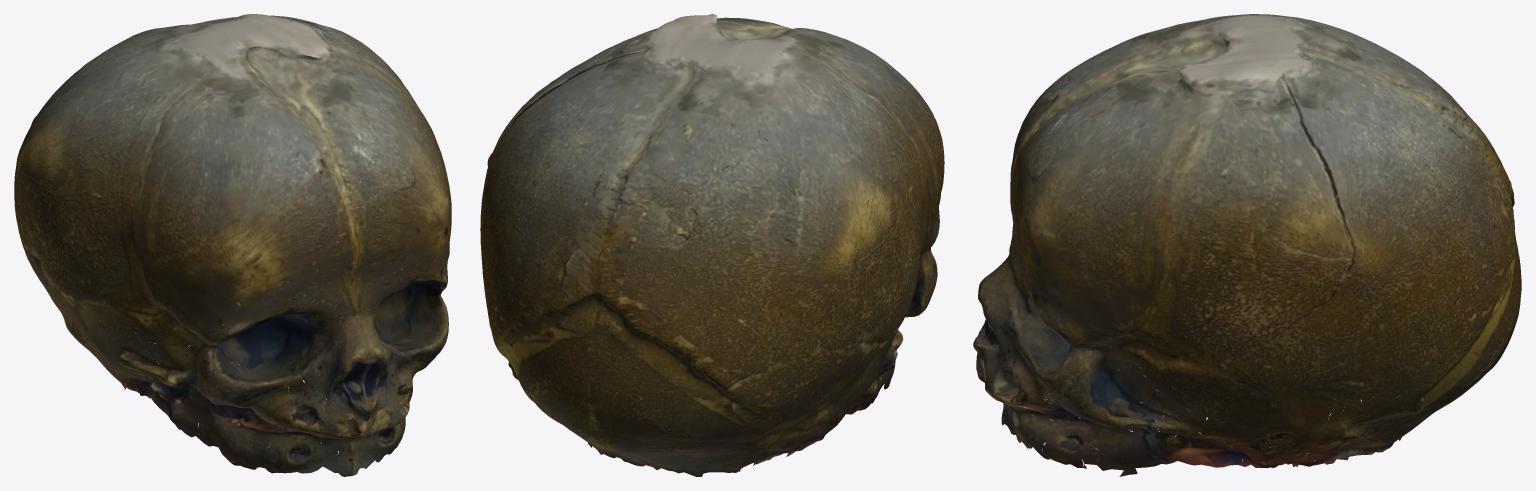
Rendered from craneo-no-plate.glb.
The picture shows the model from 3 angles, left to right: view 1: azimuth 30°, elevation 25°; view 2: azimuth 150°, elevation 25°; view 3: azimuth 270°, elevation 25°; orthographic projection. The views are drawn at different scales.
Visible parts, largest first — view 1: Object; view 2: Object; view 3: Object.
Part boxes in pixels (x1,y1,x2,y2): Object: (14, 14, 451, 476); Object: (480, 14, 944, 476); Object: (973, 14, 1521, 476).
Bounding box in the file's own units: 0.2885 × 0.2754 × 0.3506.
1 material, 1 textured.
